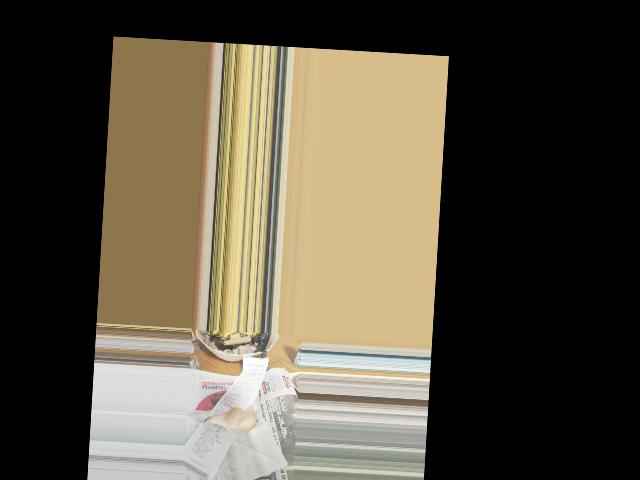onion: (214, 406, 261, 433)
